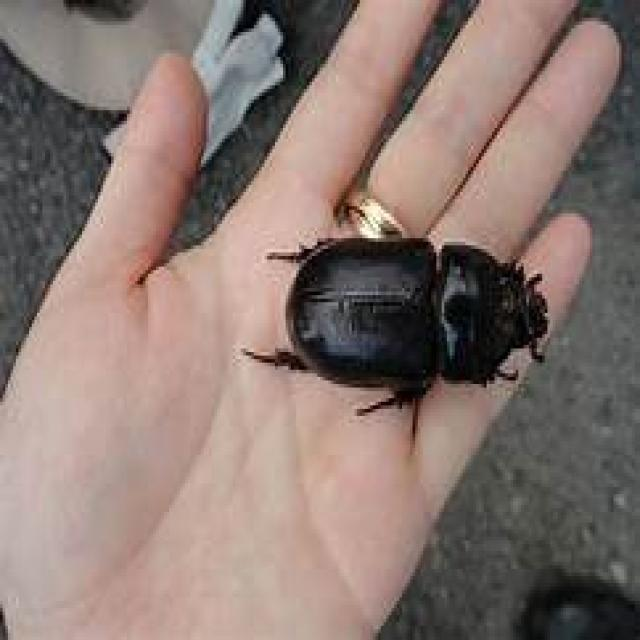Rhino-beetle: (244, 211, 573, 423)
